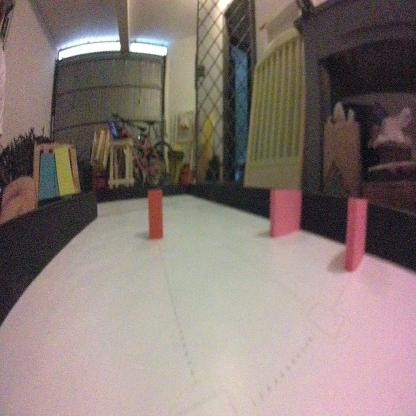magenta: (342, 195, 367, 273), (268, 185, 300, 239)
red: (145, 183, 163, 238)
